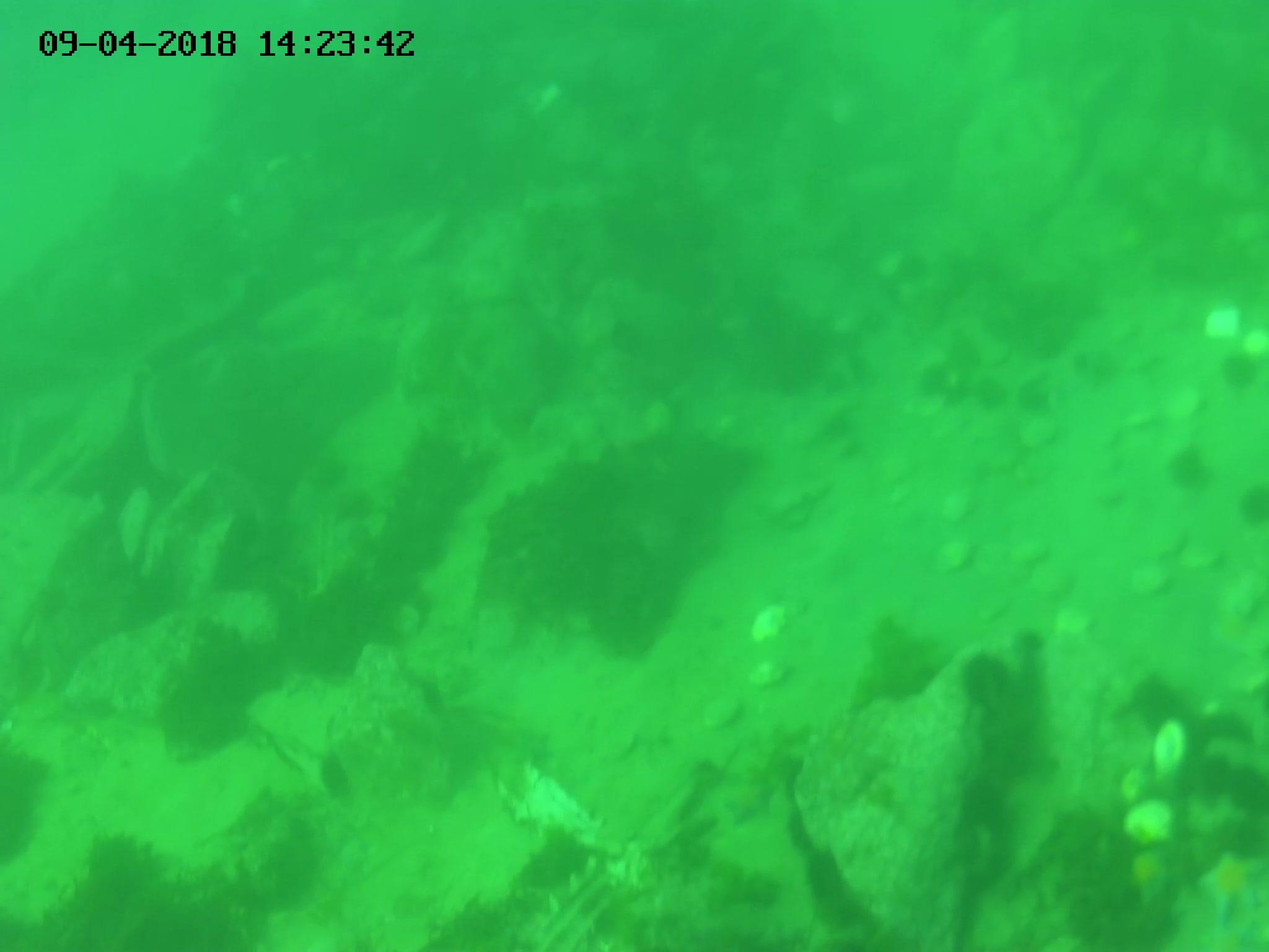holothurian: (1198, 847, 1265, 919), (1132, 852, 1170, 896)
scallop: (113, 490, 161, 567), (1117, 804, 1172, 844), (1159, 723, 1193, 780), (698, 695, 744, 731), (1166, 390, 1207, 426), (1029, 565, 1072, 599), (1024, 417, 1068, 449), (1145, 521, 1181, 558), (752, 604, 782, 645), (942, 543, 974, 580), (768, 491, 811, 517), (745, 663, 788, 688), (779, 507, 816, 534), (1130, 566, 1149, 597)
starfish: (960, 776, 1012, 827), (960, 658, 1009, 700), (802, 851, 844, 898), (914, 362, 954, 400), (1218, 353, 1257, 389), (973, 379, 1009, 414), (1171, 451, 1202, 485), (1012, 381, 1040, 413)
